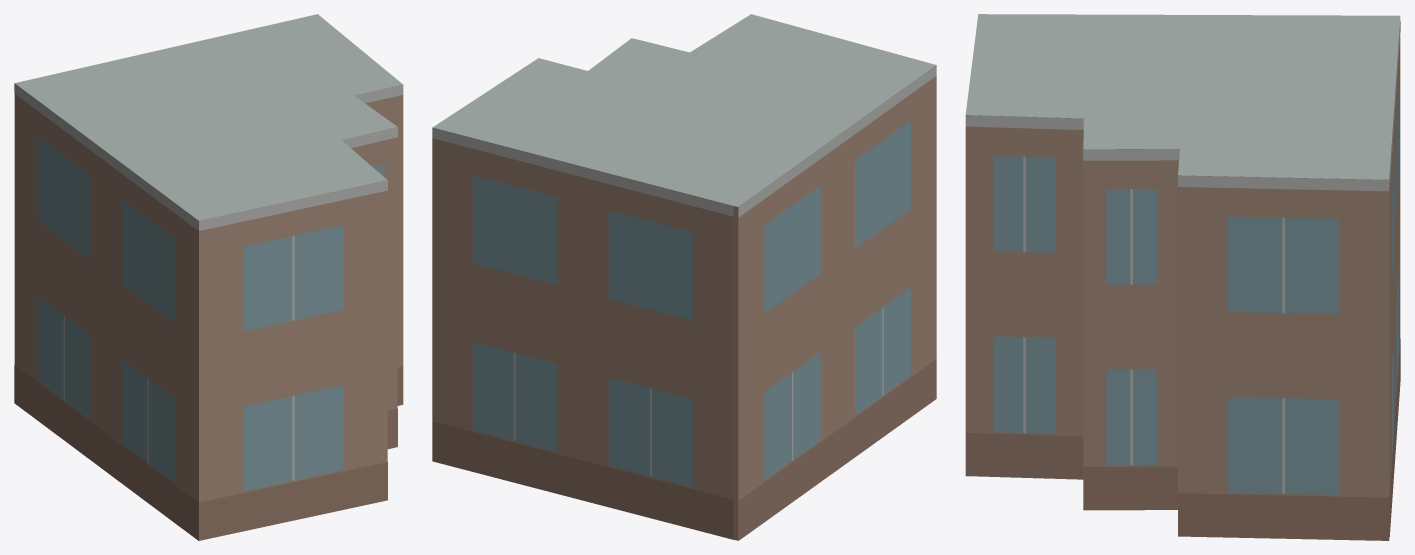
File: survey-upis-32610496.glb
3 renders of one model, left to right at view 1: azimuth 30°, elevation 25°; view 2: azimuth 150°, elevation 25°; view 3: azimuth 270°, elevation 25°, orthographic. The views are drawn at different scales.
Visible parts, largest first — view 1: survey-upis-32610496.tmp; view 2: survey-upis-32610496.tmp; view 3: survey-upis-32610496.tmp.
Boxes of the visible parts, x1,y1,x2,y2 form: survey-upis-32610496.tmp: (14,14,403,540); survey-upis-32610496.tmp: (432,14,936,540); survey-upis-32610496.tmp: (965,14,1400,540).
Size of the model in its own units: 7.49 by 7.6 by 8.31.
